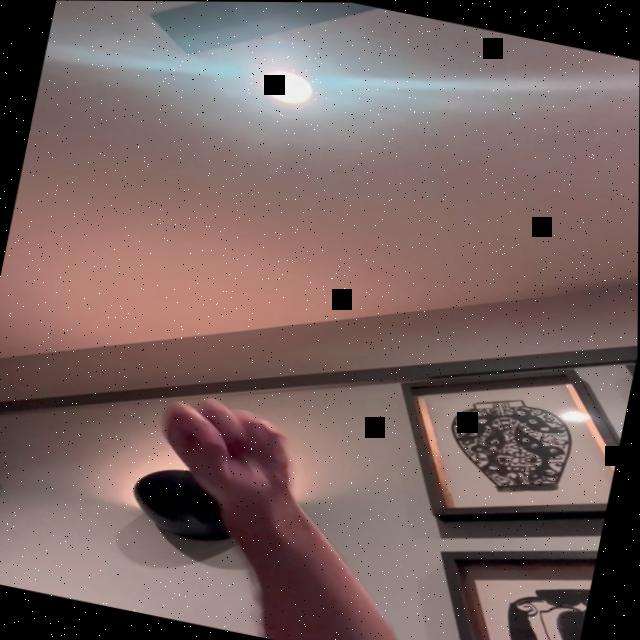Rock: (150, 391, 299, 503)
